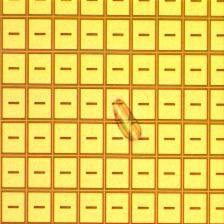PARTICLE: (110, 97, 145, 144)
